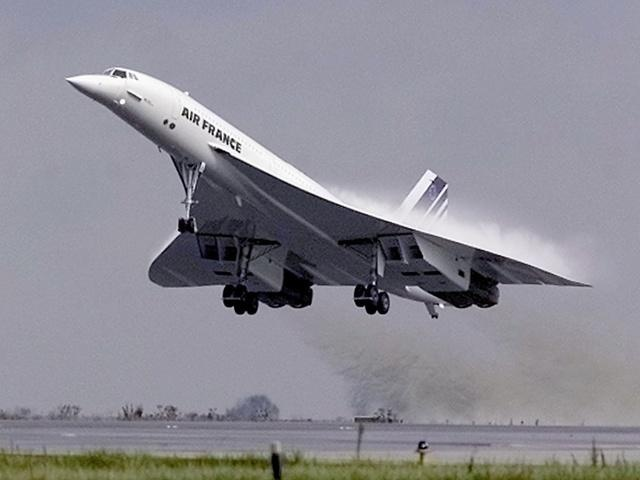airplane: (64, 60, 610, 313)
